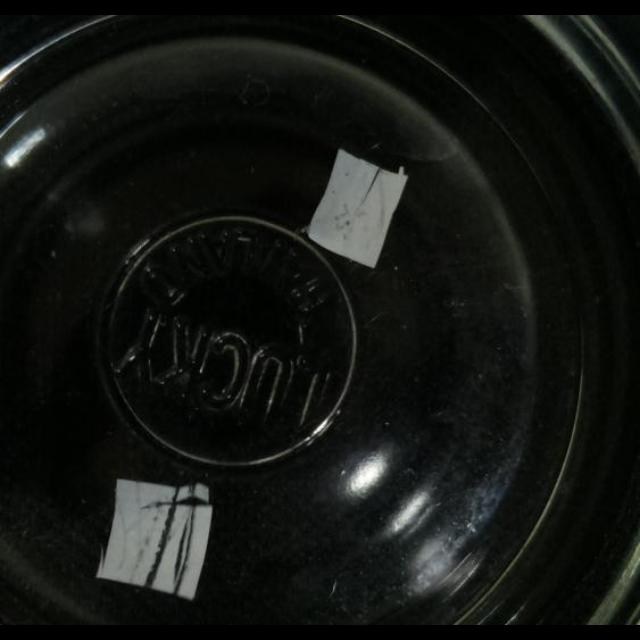Fragment: (96, 472, 212, 602), (306, 150, 410, 270)
